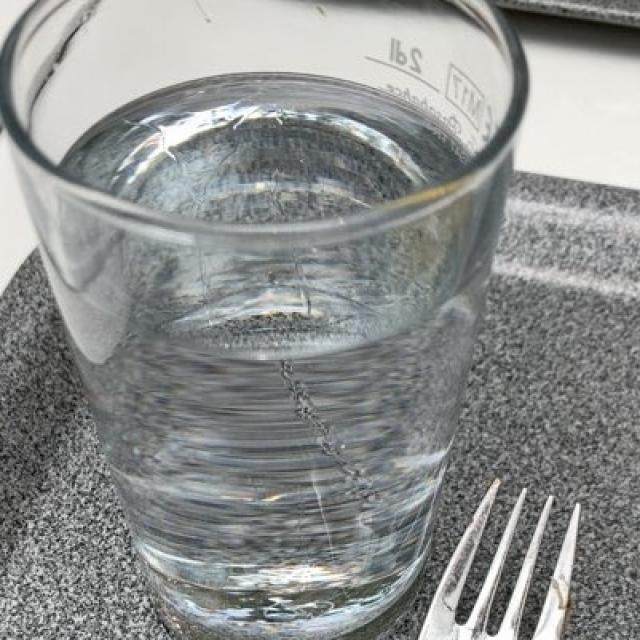water: (42, 52, 478, 593)
